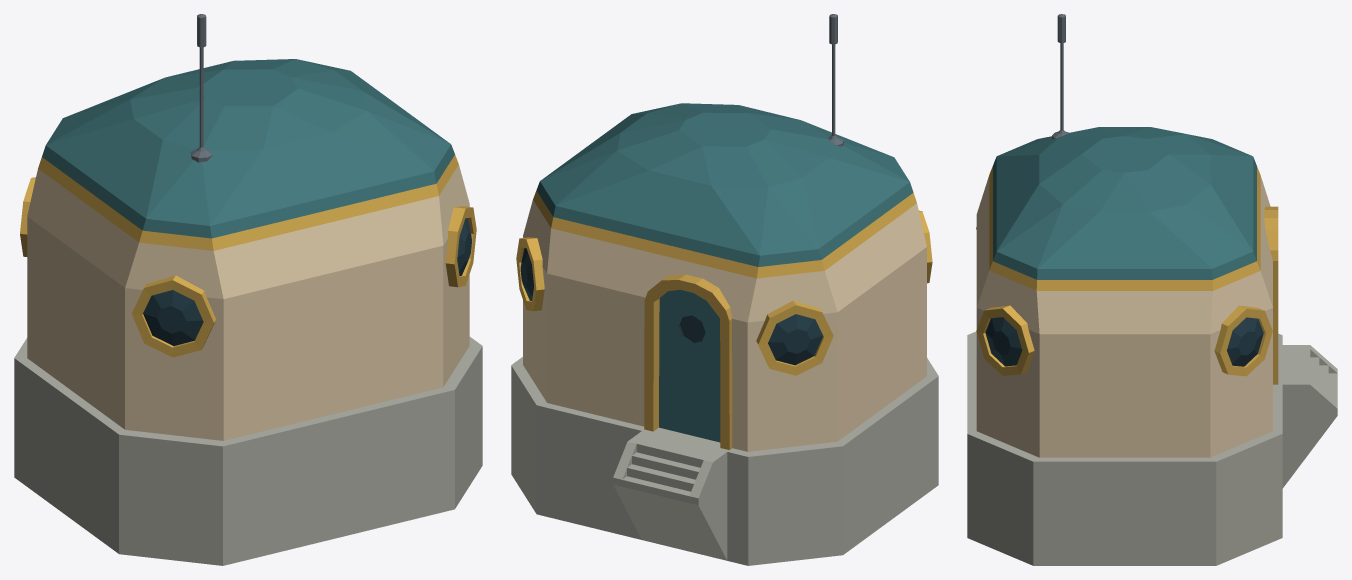
The picture shows the model from 3 angles, left to right: view 1: azimuth 30°, elevation 25°; view 2: azimuth 150°, elevation 25°; view 3: azimuth 270°, elevation 25°; orthographic projection. The views are drawn at different scales.
Visible parts, largest first — view 1: house_01; view 2: house_01; view 3: house_01.
Part boxes in pixels (left/top/right/bottom): house_01: left=14, top=14, right=482, bottom=565; house_01: left=511, top=14, right=938, bottom=565; house_01: left=967, top=14, right=1337, bottom=565.
Size of the model in its own units: 4.93 by 6.53 by 4.99.
Materials: 1 (1 with a texture image).
